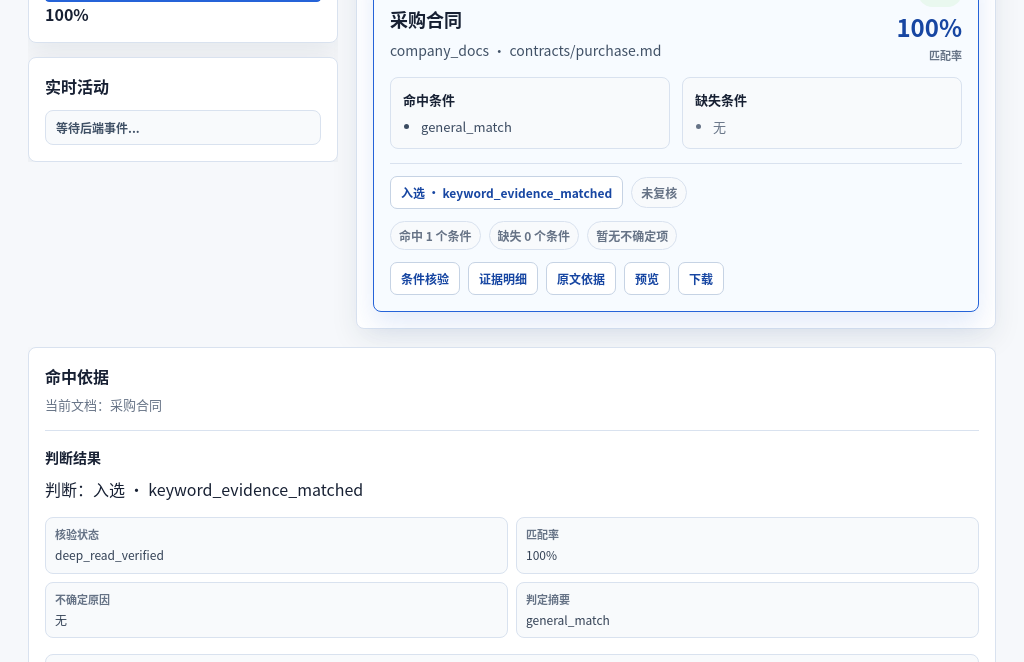
it: TaskProgressPage › renders page labels for legacy evidence rows without a page number
(page scrolled)
Expected: the heading "采购合同" is shown, left=390, top=6, right=462, bottom=32
Click the button with aria-label "查看采购合同证据明细".
click(503, 279)  # box left=468, top=262, right=538, bottom=296
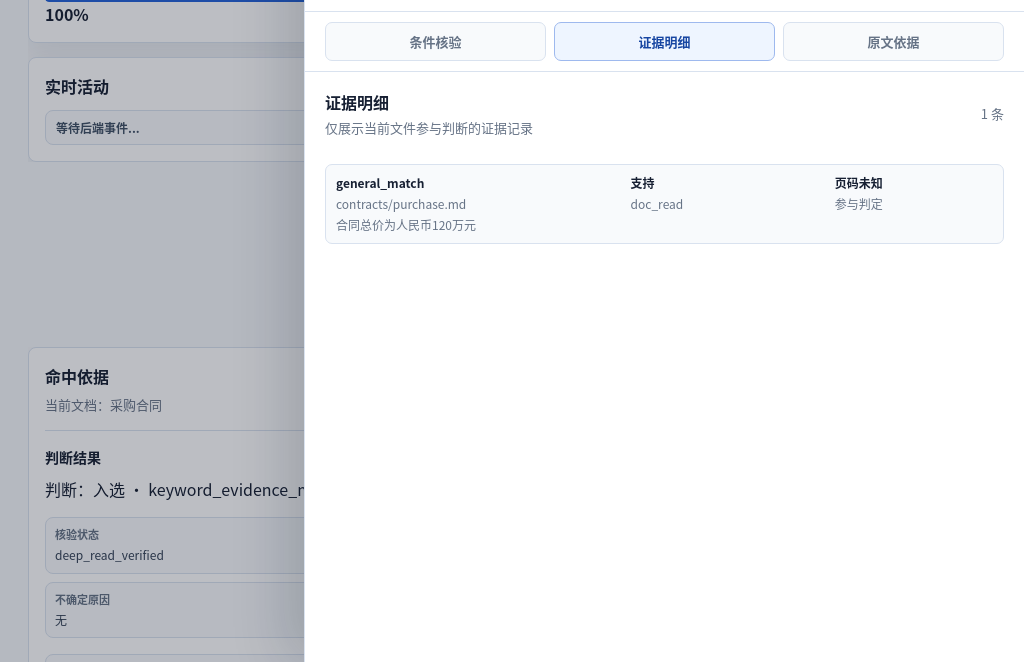
Expected: the text "页码未知" is shown, left=835, top=174, right=883, bottom=190
